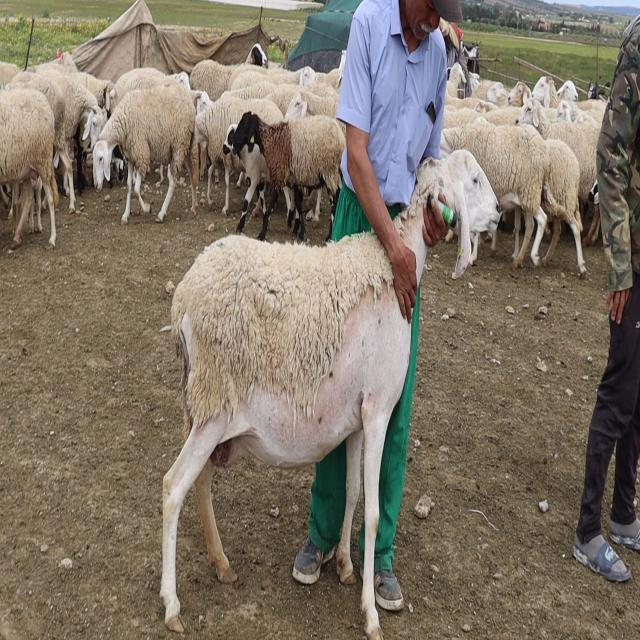Score_2: (160, 233, 411, 639)
